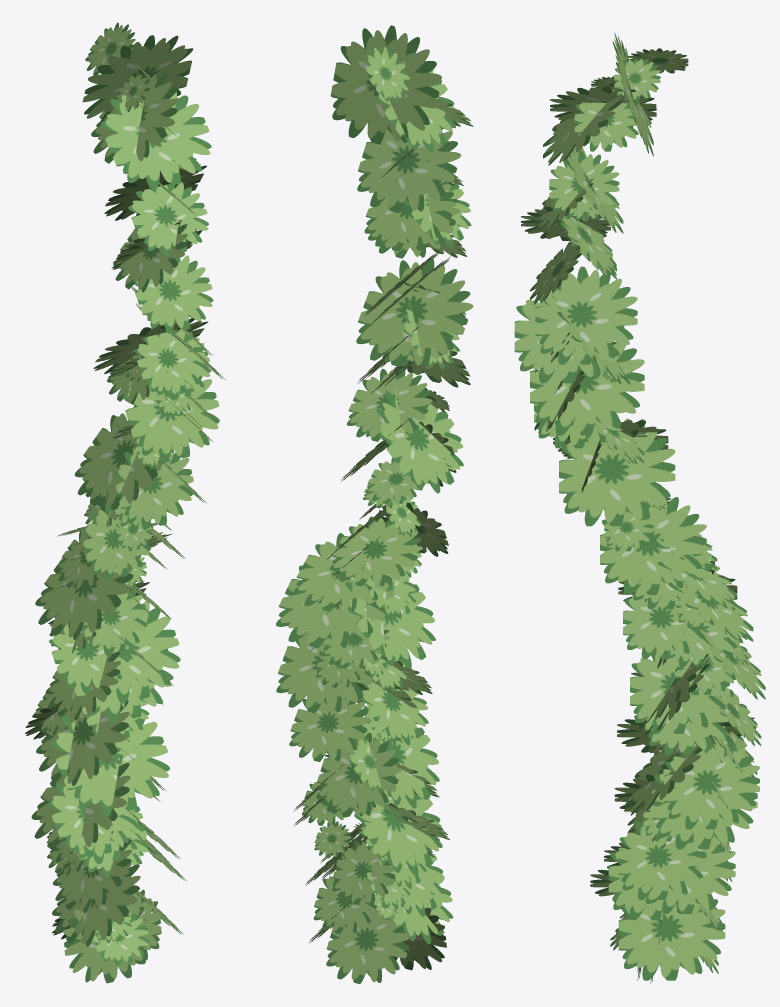
The model's file is BushLarge.fbx.
3 views of the same model, side by side, from view 1: azimuth 30°, elevation 25°; view 2: azimuth 150°, elevation 25°; view 3: azimuth 270°, elevation 25° (orthographic). The views are drawn at different scales.
Parts seen in each view (by area): view 1: Cube.001; view 2: Cube.001; view 3: Cube.001.
Part boxes in pixels (bbox=[...]): Cube.001: bbox=[25, 22, 225, 983]; Cube.001: bbox=[276, 25, 473, 983]; Cube.001: bbox=[514, 33, 765, 983].
Size of the model in its own units: 38.29 by 259 by 62.46.
